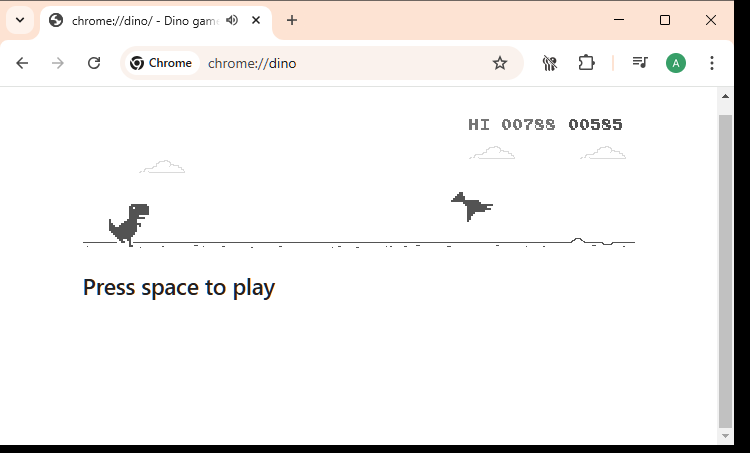bird: (450, 191, 494, 223)
dino: (108, 203, 150, 248)
